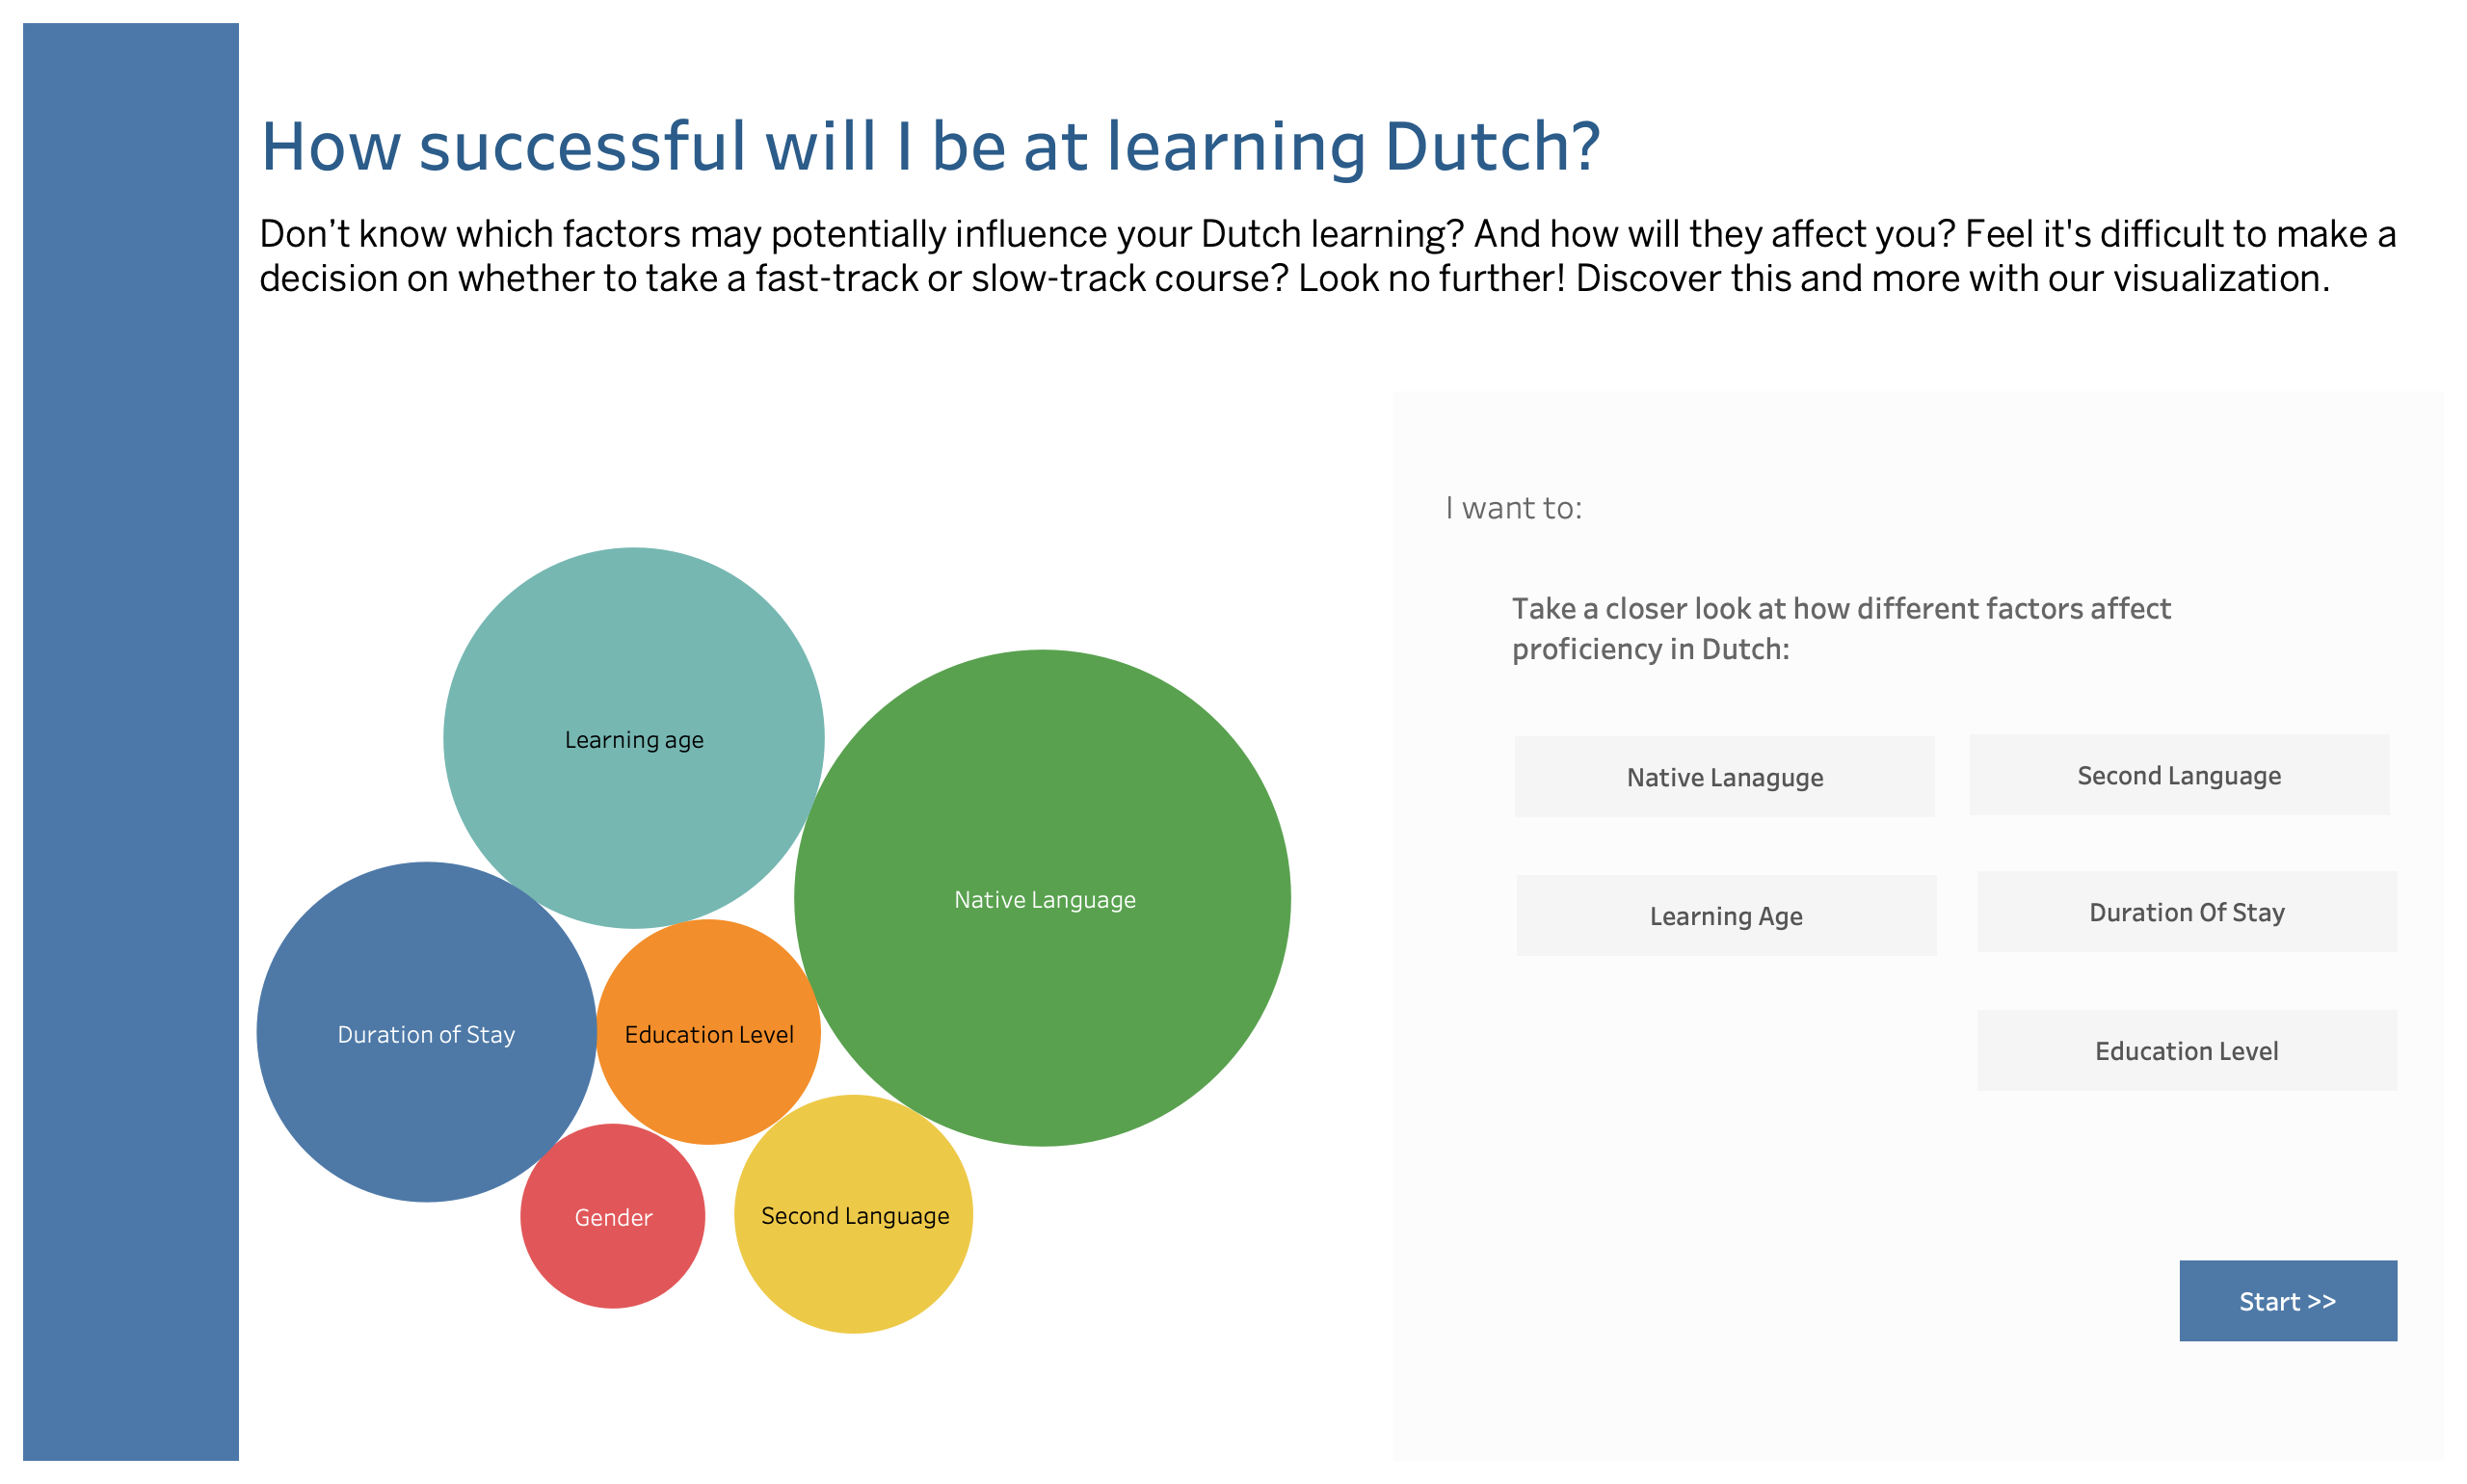

What the dashboard file says about the page in this screenshot:
{"tool":"tableau","page":{"name":"Home","canvas":[1000,1000],"units":"permille","ordinal":6},"visuals":[{"type":"text","box":[6.2,10.4,93.6,979.2]},{"type":"text","box":[99.8,10.4,893.9,247.4]},{"type":"worksheet","title":"Cover","mark":"Circle","box":[99.8,257.8,426.6,731.8]},{"type":"text","box":[526.5,257.8,35.6,731.8]},{"type":"text","box":[562,257.8,431.7,731.8]},{"type":"text","box":[583.8,292.7,118.4,98.2]},{"type":"text","box":[610.8,378.2,312.9,90.9]},{"type":"dashboard-object","box":[798.4,494.6,170.5,54.6]},{"type":"dashboard-object","box":[613.8,496.4,170.5,54.6]},{"type":"dashboard-object","box":[801.4,587.3,170.5,54.6]},{"type":"dashboard-object","box":[614.8,589.1,170.5,54.6]},{"type":"dashboard-object","box":[801.4,680,170.5,54.6]},{"type":"dashboard-object","box":[883.6,849.1,88.3,54.6]}]}

Visuals, with their boxes on the dashboard's canvas, which has no fixed pixel size, in thousandths of its width and height (x1, y1, x2, y2). These are canvas units, not pixel positions in the 2467x1484 screenshot, which may show the page scaled, cropped or inside an application window:
text: 6,10,100,990
text: 100,10,994,258
"Cover" worksheet (Circle marks): 100,258,526,990
text: 526,258,562,990
text: 562,258,994,990
text: 584,293,702,391
text: 611,378,924,469
dashboard-object: 798,495,969,549
dashboard-object: 614,496,784,551
dashboard-object: 801,587,972,642
dashboard-object: 615,589,785,644
dashboard-object: 801,680,972,735
dashboard-object: 884,849,972,904
